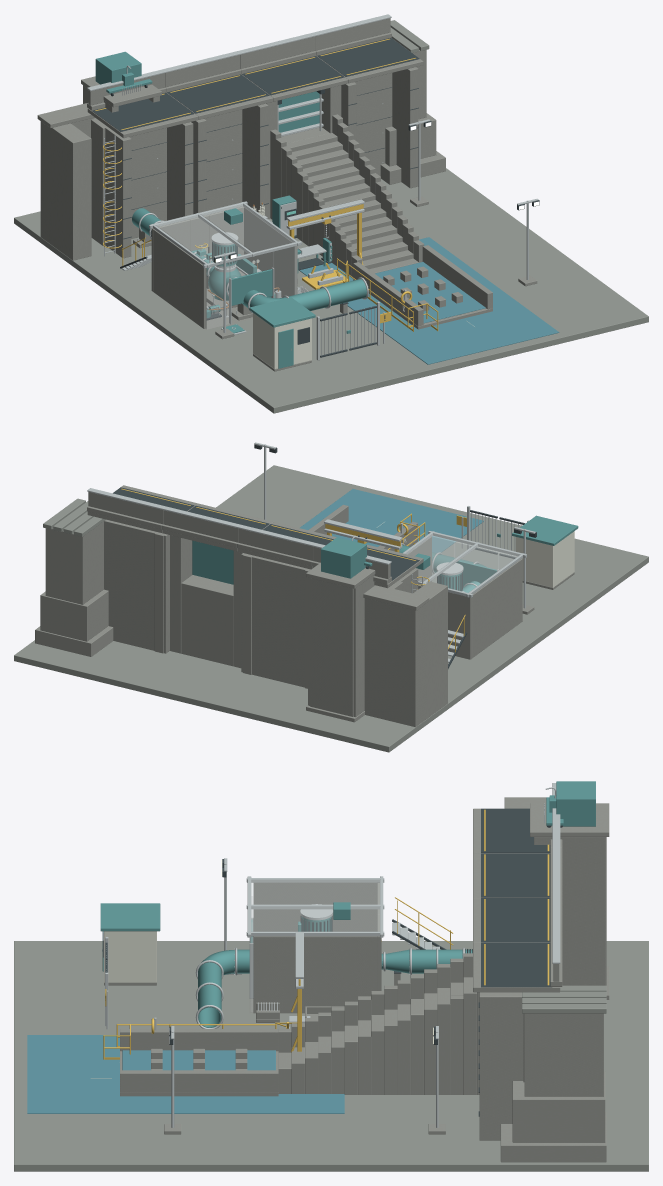
3 renders of one model, top to bottom at view 1: azimuth 30°, elevation 25°; view 2: azimuth 150°, elevation 25°; view 3: azimuth 270°, elevation 25°, orthographic. The views are drawn at different scales.
Visible parts, largest first — view 1: 000-river-display-base/0, 015-spillway-chute/0, 001-dam-wall-straight/0, 035-roofed-powerhouse/0, 005-dam-wall-return/0, 000-river-display-base/1, 002-dam-wall-straight/0, 035-roofed-powerhouse/1, 004-dam-wall-straight/0, 016-stilling-basin/0, 006-abutment/0, 016-stilling-basin/1 (+28 smaller); view 2: 000-river-display-base/0, 005-dam-wall-return/0, 017-intake-tower/0, 002-dam-wall-straight/0, 006-abutment/0, 004-dam-wall-straight/0, 003-spillway-gate/0, 035-roofed-powerhouse/0, 000-river-display-base/1, 035-roofed-powerhouse/1, 065-guard-cabin/1, 012-crest-barrier/0 (+19 smaller); view 3: 000-river-display-base/0, 015-spillway-chute/0, 006-abutment/0, 035-roofed-powerhouse/0, 000-river-display-base/1, 017-intake-tower/0, 016-stilling-basin/0, 035-roofed-powerhouse/1, 004-dam-wall-straight/0, 013-crest-roadway/1, 009-crest-roadway/1, 011-crest-roadway/1 (+11 smaller).
Part boxes in pixels (x1,y1,x2,y2): 000-river-display-base/0: [14, 168, 648, 413]; 015-spillway-chute/0: [270, 114, 424, 277]; 001-dam-wall-straight/0: [91, 118, 193, 258]; 035-roofed-powerhouse/0: [151, 206, 297, 330]; 005-dam-wall-return/0: [37, 103, 94, 260]; 000-river-display-base/1: [299, 237, 559, 364]; 002-dam-wall-straight/0: [191, 103, 268, 219]; 035-roofed-powerhouse/1: [156, 204, 297, 329]; 004-dam-wall-straight/0: [341, 67, 418, 188]; 016-stilling-basin/0: [353, 245, 492, 329]; 006-abutment/0: [380, 50, 445, 184]; 016-stilling-basin/1: [375, 262, 485, 323]; 000-river-display-base/0: [14, 465, 648, 752]; 005-dam-wall-return/0: [363, 581, 447, 727]; 017-intake-tower/0: [306, 562, 375, 722]; 002-dam-wall-straight/0: [241, 553, 310, 688]; 006-abutment/0: [35, 521, 113, 656]; 004-dam-wall-straight/0: [104, 519, 169, 653]; 003-spillway-gate/0: [170, 535, 242, 668]; 035-roofed-powerhouse/0: [407, 536, 523, 659]; 000-river-display-base/1: [300, 489, 483, 553]; 035-roofed-powerhouse/1: [405, 533, 520, 592]; 065-guard-cabin/1: [515, 531, 574, 587]; 012-crest-barrier/0: [162, 510, 238, 547]; 000-river-display-base/0: [14, 941, 648, 1171]; 015-spillway-chute/0: [278, 953, 479, 1094]; 006-abutment/0: [500, 1013, 606, 1162]; 035-roofed-powerhouse/0: [249, 882, 381, 1013]; 000-river-display-base/1: [27, 1035, 344, 1113]; 017-intake-tower/0: [530, 803, 609, 999]; 016-stilling-basin/0: [120, 1029, 278, 1096]; 035-roofed-powerhouse/1: [250, 879, 379, 1012]; 004-dam-wall-straight/0: [479, 992, 524, 1140]; 013-crest-roadway/1: [481, 942, 551, 987]; 009-crest-roadway/1: [481, 853, 550, 897]; 011-crest-roadway/1: [481, 898, 550, 942].
Size of the model in its own units: 20.1 by 8.57 by 24.
Materials: 13 (1 with a texture image).
